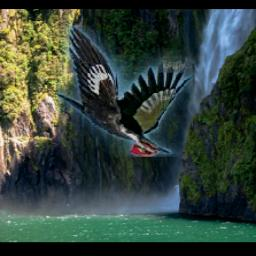Woodpecker: (57, 26, 193, 157)
